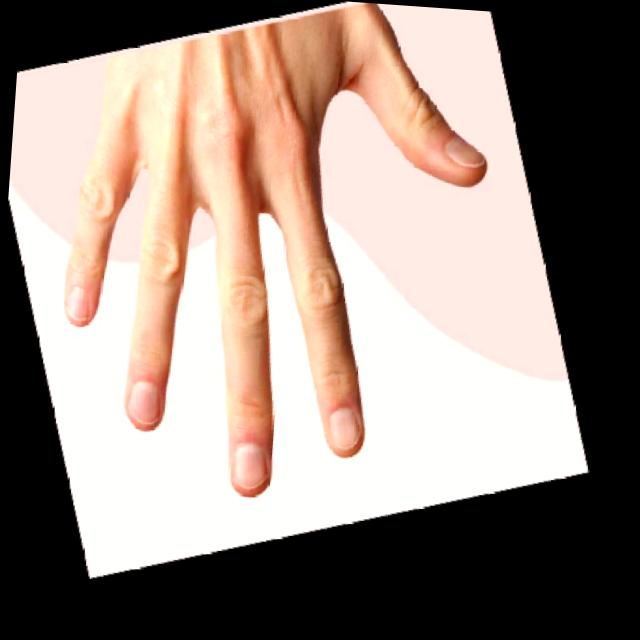Nail: (232, 447, 266, 488), (127, 382, 159, 423), (328, 410, 360, 448), (445, 138, 484, 167), (65, 285, 88, 323)
